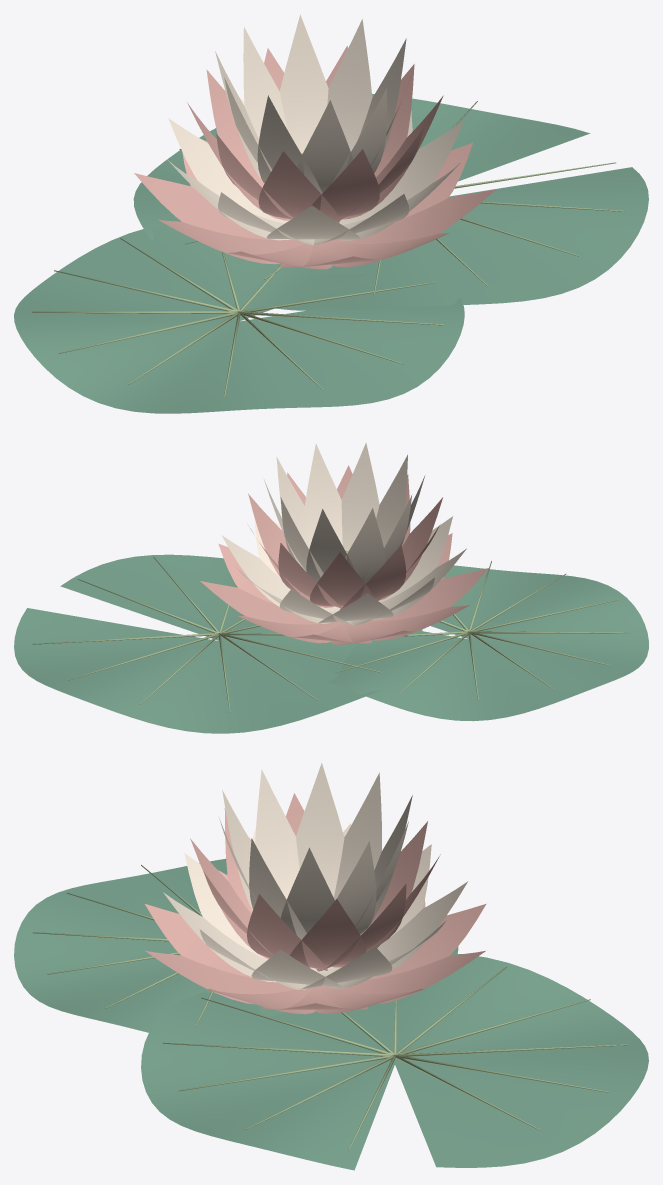
File: lotus.glb
3 renders of one model, top to bottom at view 1: azimuth 30°, elevation 25°; view 2: azimuth 150°, elevation 25°; view 3: azimuth 270°, elevation 25°, orthographic. The views are drawn at different scales.
Visible parts, largest first — view 1: Notched lotus leaf, Notched lotus leaf.001, Lotus petal.037, Lotus petal.038, Lotus petal.006, Lotus petal.001, Lotus petal.023, Lotus petal.032, Lotus petal.016, Lotus petal.010, Lotus petal.022, Lotus petal.036 (+21 smaller); view 2: Notched lotus leaf.001, Notched lotus leaf, Lotus petal.031, Lotus petal.030, Lotus petal.004, Lotus petal.009, Lotus petal.026, Lotus petal.035, Lotus petal.019, Lotus petal.036, Lotus petal.032, Lotus petal.025 (+16 smaller); view 3: Notched lotus leaf.001, Notched lotus leaf, Lotus petal.034, Lotus petal.033, Lotus petal.029, Lotus petal.035, Lotus petal.002, Lotus petal.008, Lotus petal.039, Lotus petal.017, Lotus petal.020, Lotus petal.007 (+19 smaller).
Boxes of the visible parts, <box> form: Notched lotus leaf: <box>14,224,464,413</box>; Notched lotus leaf.001: <box>133,94,648,310</box>; Lotus petal.037: <box>279,14,328,153</box>; Lotus petal.038: <box>327,19,372,151</box>; Lotus petal.006: <box>134,173,294,240</box>; Lotus petal.001: <box>329,189,496,243</box>; Lotus petal.023: <box>258,151,339,222</box>; Lotus petal.032: <box>296,100,353,192</box>; Lotus petal.016: <box>168,118,288,223</box>; Lotus petal.010: <box>339,121,463,224</box>; Lotus petal.022: <box>310,149,379,217</box>; Lotus petal.036: <box>243,27,287,138</box>; Notched lotus leaf.001: <box>14,554,422,733</box>; Notched lotus leaf: <box>328,565,648,721</box>; Lotus petal.031: <box>341,442,379,551</box>; Lotus petal.030: <box>305,444,342,545</box>; Lotus petal.004: <box>368,568,488,621</box>; Lotus petal.009: <box>200,581,335,624</box>; Lotus petal.026: <box>310,552,373,606</box>; Lotus petal.035: <box>345,508,385,580</box>; Lotus petal.019: <box>221,535,339,611</box>; Lotus petal.036: <box>306,509,355,582</box>; Lotus petal.032: <box>376,454,407,547</box>; Lotus petal.025: <box>340,545,406,609</box>; Notched lotus leaf.001: <box>141,953,648,1170</box>; Notched lotus leaf: <box>14,858,458,1036</box>; Lotus petal.034: <box>296,762,344,897</box>; Lotus petal.033: <box>255,769,299,899</box>; Lotus petal.029: <box>289,899,366,967</box>; Lotus petal.035: <box>333,772,381,900</box>; Lotus petal.002: <box>145,950,295,1004</box>; Lotus petal.008: <box>321,951,485,1004</box>; Lotus petal.039: <box>281,847,334,934</box>; Lotus petal.017: <box>318,881,467,977</box>; Lotus petal.020: <box>247,894,327,970</box>; Lotus petal.007: <box>367,903,486,980</box>.
Bounding box in the file's own units: 1.39 × 0.44 × 1.2.
